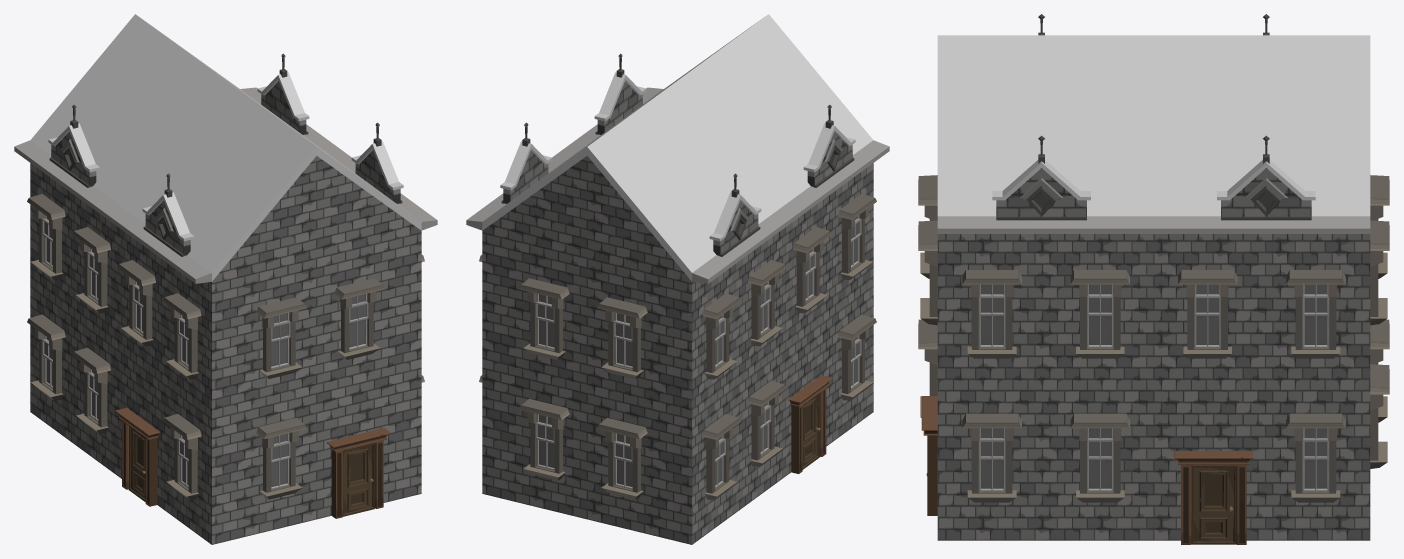
Rendered from SM_Bld_Background_Building_01.fbx.
3 renders of one model, left to right at view 1: azimuth 30°, elevation 25°; view 2: azimuth 150°, elevation 25°; view 3: azimuth 270°, elevation 25°, orthographic. The views are drawn at different scales.
Parts seen in each view (by area): view 1: SM_Bld_Background_Building_01; view 2: SM_Bld_Background_Building_01; view 3: SM_Bld_Background_Building_01.
Boxes of the visible parts, x1,y1,x2,y2 form: SM_Bld_Background_Building_01: [14, 14, 437, 544]; SM_Bld_Background_Building_01: [466, 14, 889, 544]; SM_Bld_Background_Building_01: [918, 14, 1389, 544].
Bounding box in the file's own units: 959 × 1414 × 1356.
